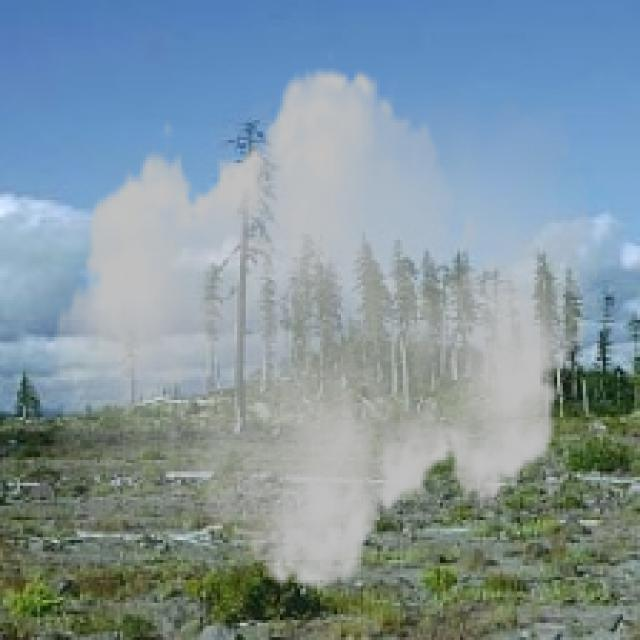smoke: (43, 46, 600, 611)
